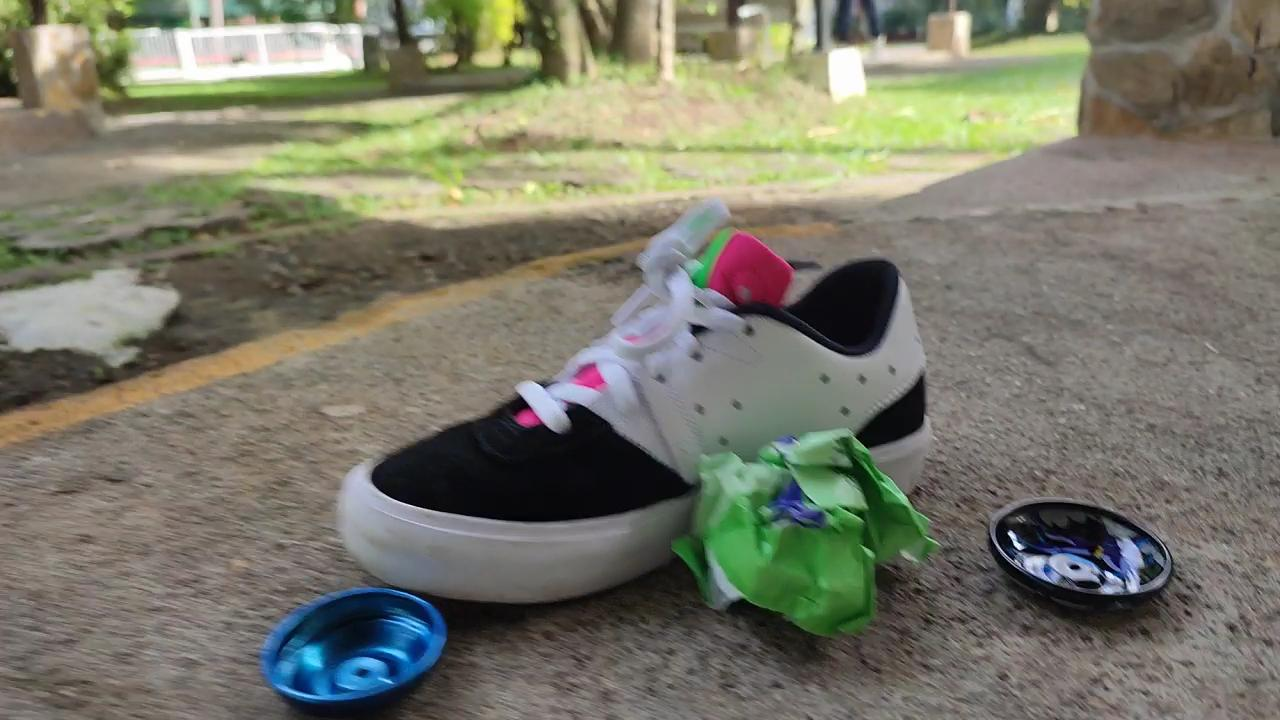Paper: (662, 412, 933, 641)
